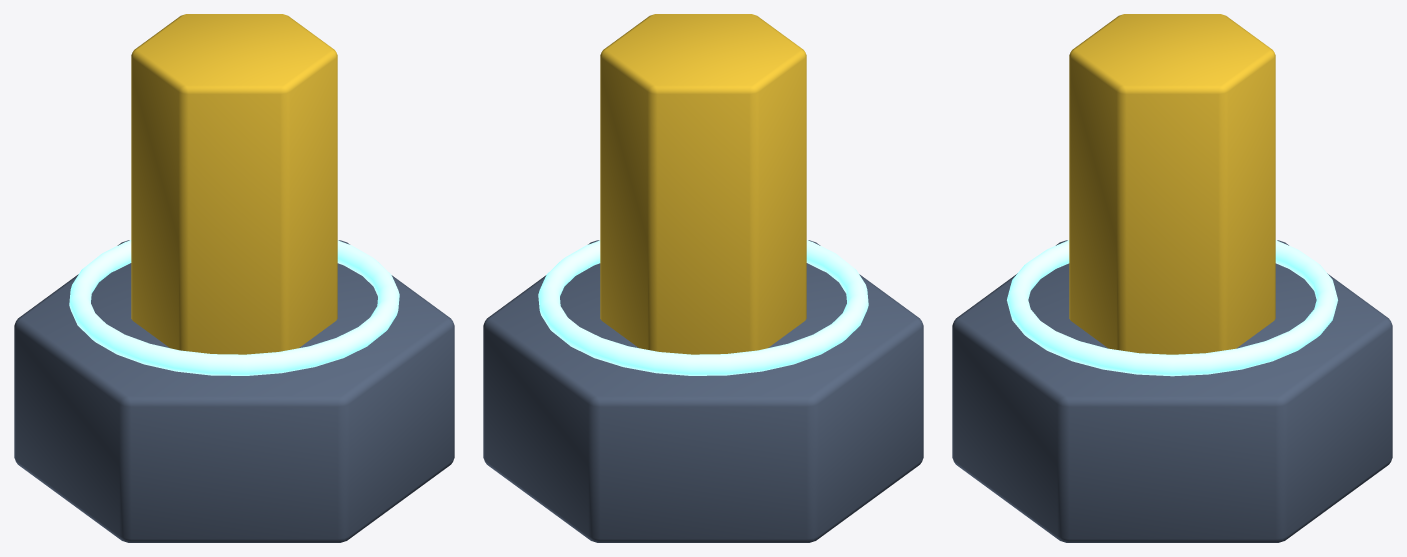
The model's file is prop_replicator.glb.
The picture shows the model from 3 angles, left to right: view 1: azimuth 30°, elevation 25°; view 2: azimuth 150°, elevation 25°; view 3: azimuth 270°, elevation 25°; orthographic projection.
Visible parts, largest first — view 1: rep_base, rep_pillar, rep_ring; view 2: rep_base, rep_pillar, rep_ring; view 3: rep_base, rep_pillar, rep_ring.
Boxes of the visible parts, x1=… form: rep_base: x1=14, y1=240, x2=454, y2=542; rep_pillar: x1=131, y1=14, x2=337, y2=354; rep_ring: x1=69, y1=240, x2=399, y2=375; rep_base: x1=483, y1=240, x2=923, y2=542; rep_pillar: x1=600, y1=14, x2=806, y2=354; rep_ring: x1=538, y1=240, x2=868, y2=375; rep_base: x1=952, y1=240, x2=1392, y2=542; rep_pillar: x1=1069, y1=14, x2=1275, y2=354; rep_ring: x1=1007, y1=240, x2=1337, y2=376.
Size of the model in its own units: 2.86 by 3.4 by 3.27.
